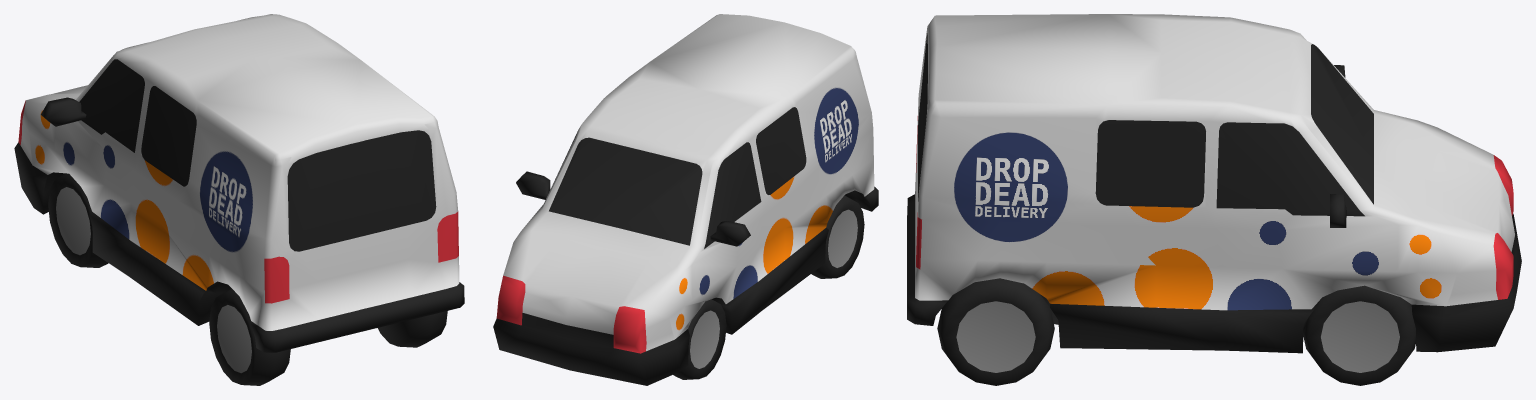
Rendered from post_van.glb.
3 renders of one model, left to right at view 1: azimuth 30°, elevation 25°; view 2: azimuth 150°, elevation 25°; view 3: azimuth 270°, elevation 25°, orthographic. The views are drawn at different scales.
Parts seen in each view (by area): view 1: van, tires, mirrors; view 2: van, tires, mirrors; view 3: van, tires, mirrors.
Boxes of the visible parts, x1,y1,x2,y2 form: van: (14,14,464,352); tires: (48,173,447,385); mirrors: (41,97,86,126); van: (493,14,878,385); tires: (673,195,864,379); mirrors: (516,171,750,246); van: (907,14,1521,353); tires: (937,278,1415,385); mirrors: (1330,65,1346,227).
Bounding box in the file's own units: 2.49 × 2.28 × 4.36.
4 materials, 1 textured.
